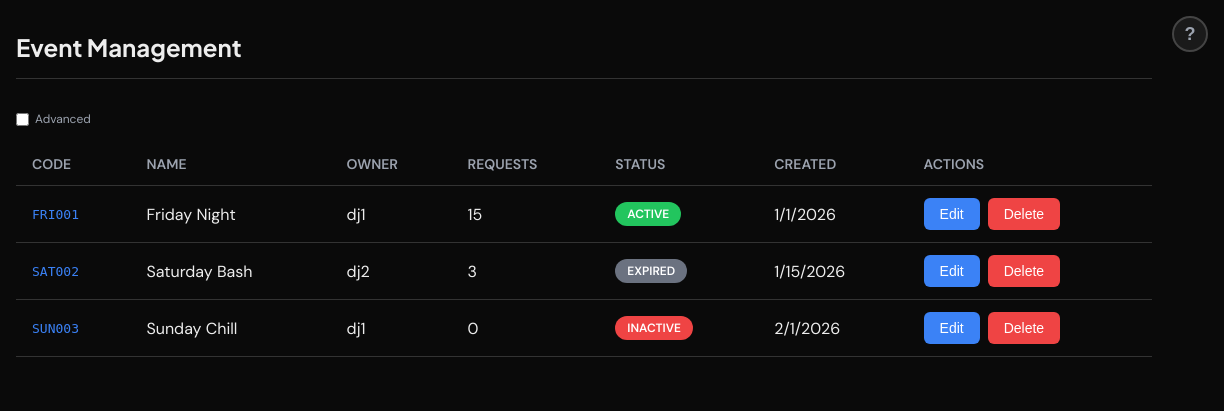
Test: AdminEventsPage › shows delete error
Expected: the text "Friday Night" is shown, x1=130 y1=186 x2=331 y2=242
Click the button "Delete" in the row of "FRI001" at (1024, 214), box x1=988 y1=198 x2=1060 y2=230
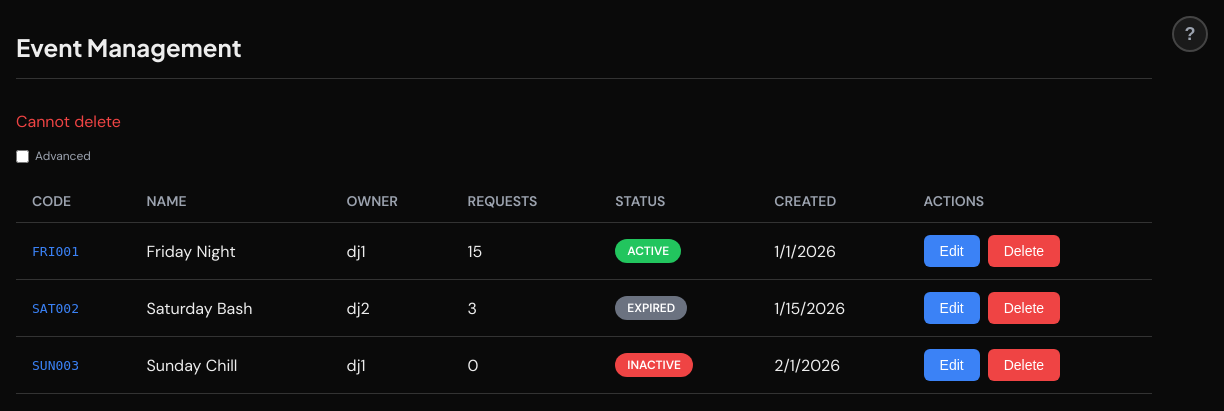
Now the text "Cannot delete" is shown, box x1=16 y1=111 x2=121 y2=132
